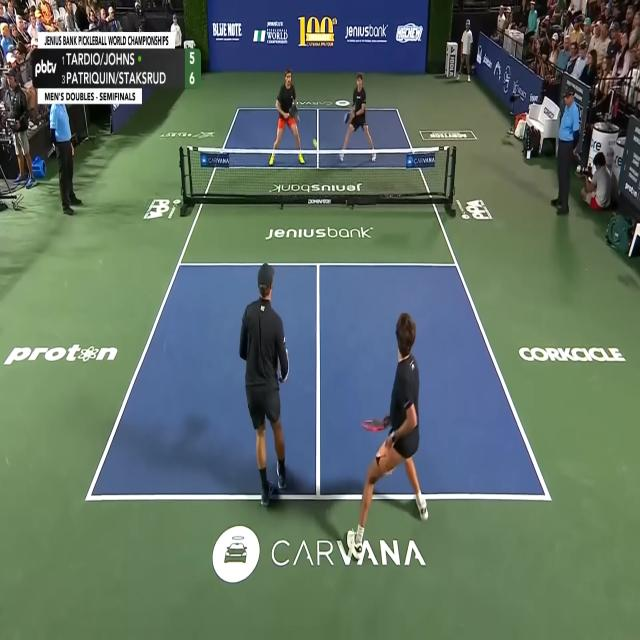ball: (313, 138, 317, 147)
